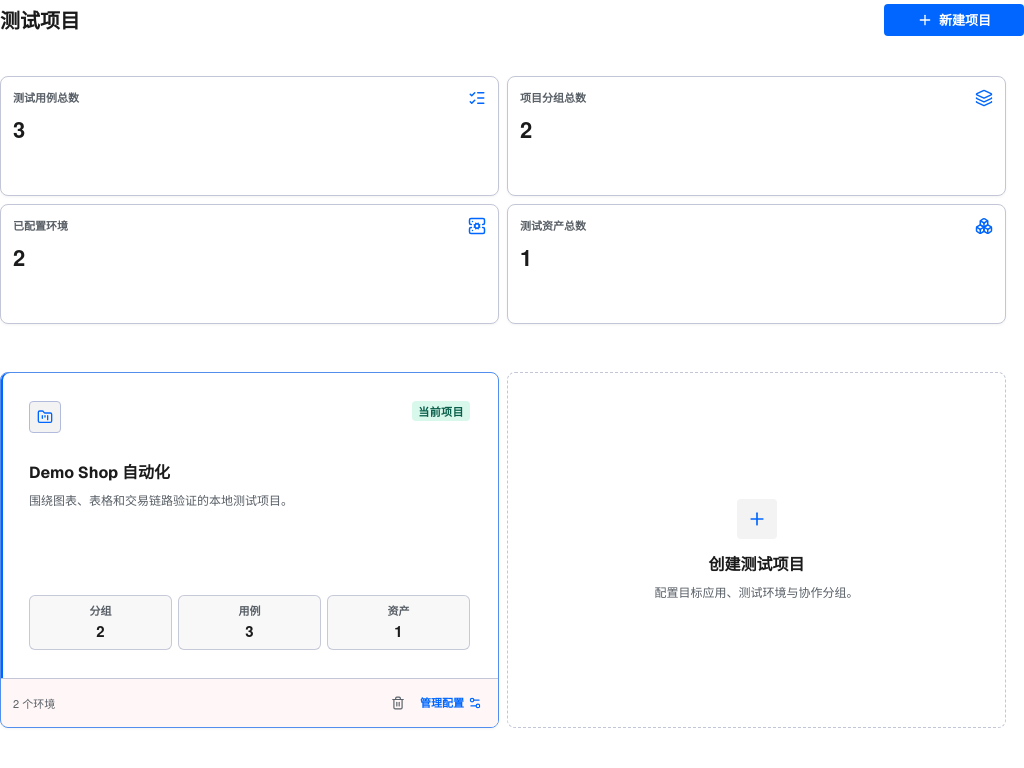
Test: ProjectManagementPage › records explicit script trust without starting a fixture or browser
Step 1. Click the button "管理配置" → coordinates (451, 703), box [416, 691, 486, 715]
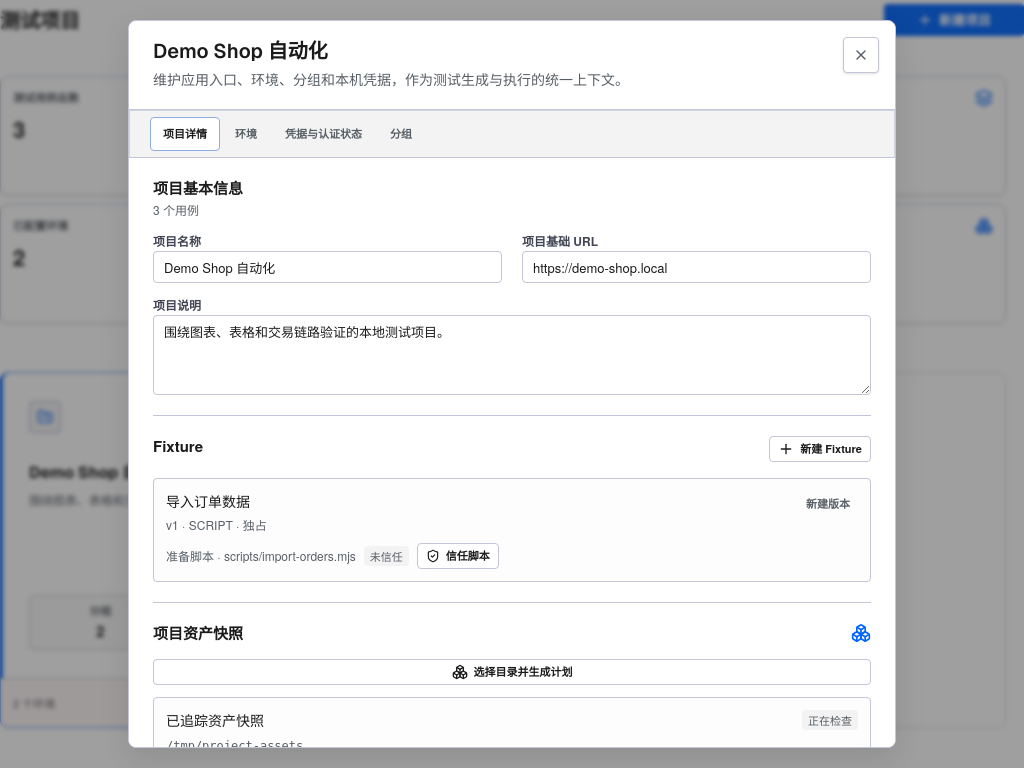
Check: the text "未信任" is shown, box [364, 546, 409, 566]
Step 2. Click the button "信任脚本" → coordinates (458, 556), box [417, 543, 499, 569]
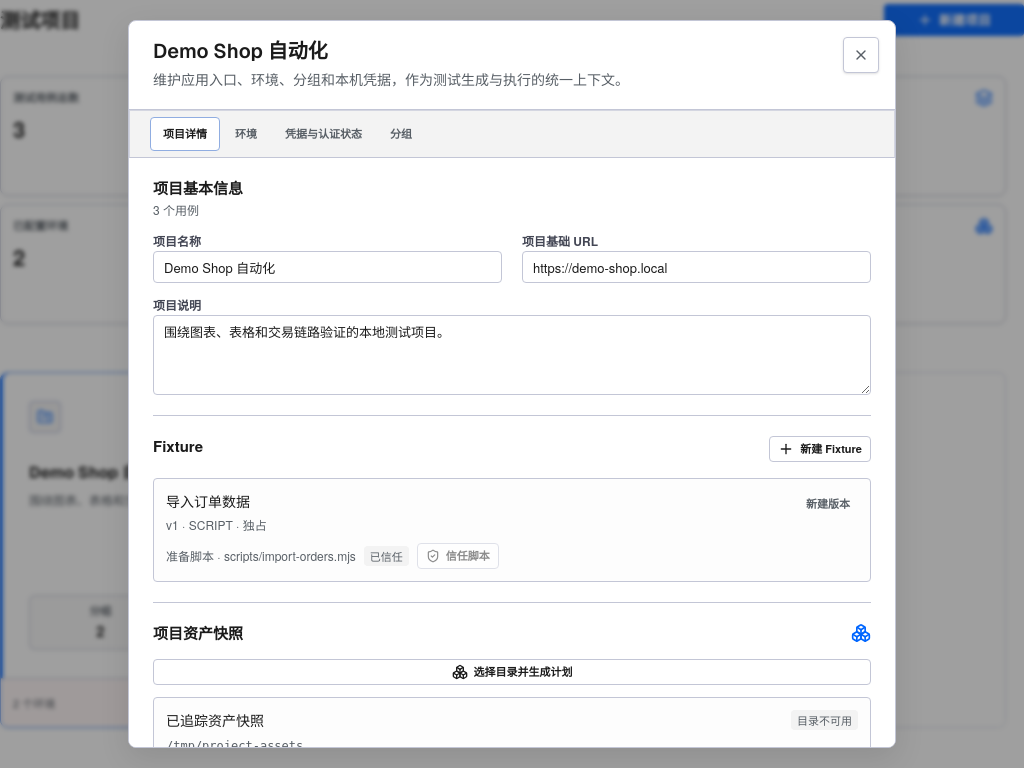
Check: the text "已信任" is shown, box [364, 546, 409, 566]
